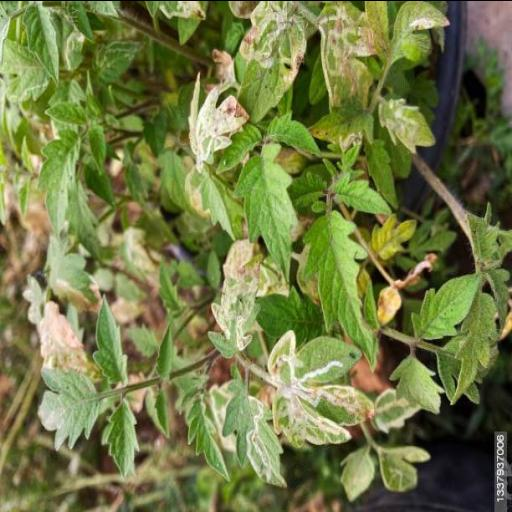disease_tomato: (268, 328, 375, 452), (236, 0, 306, 124), (221, 376, 289, 488), (205, 234, 263, 360), (312, 0, 374, 114), (186, 84, 248, 170), (378, 95, 436, 156)
